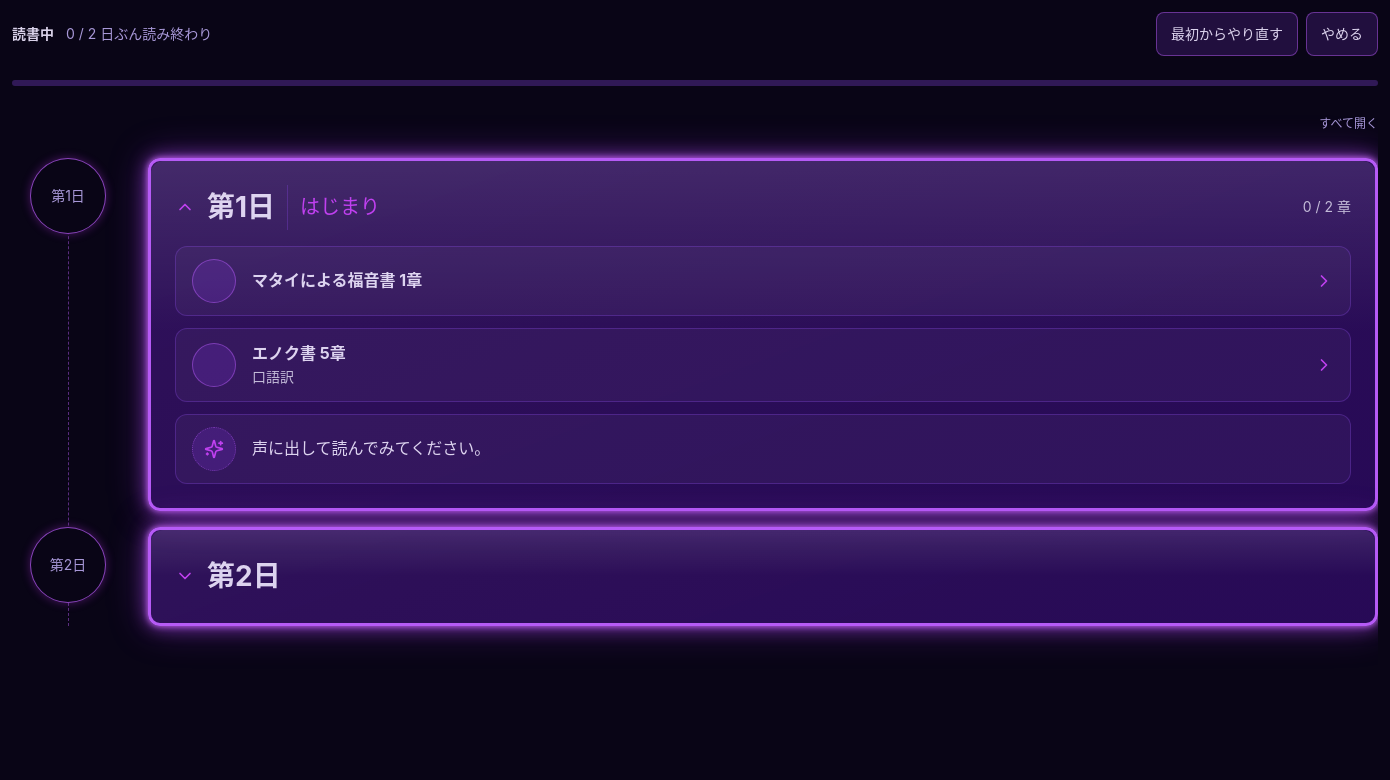
Test: プランを読み進めるところ › 見出しを押すと開け閉めできる
Click the button "第2日".
click(244, 576)  # box [175,554,1351,599]
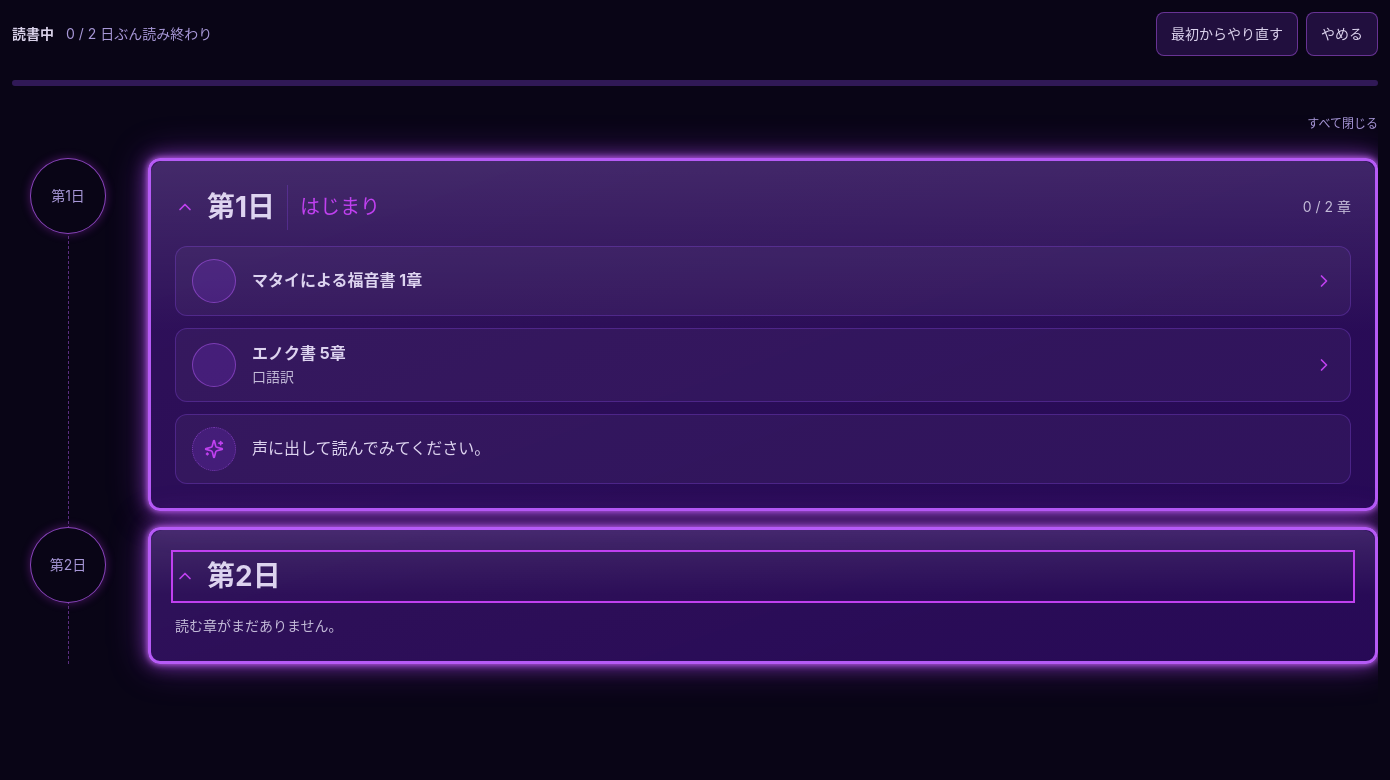
Result: the button "第2日" is expanded
Click the button "第2日".
click(244, 576)  # box [175,554,1351,599]
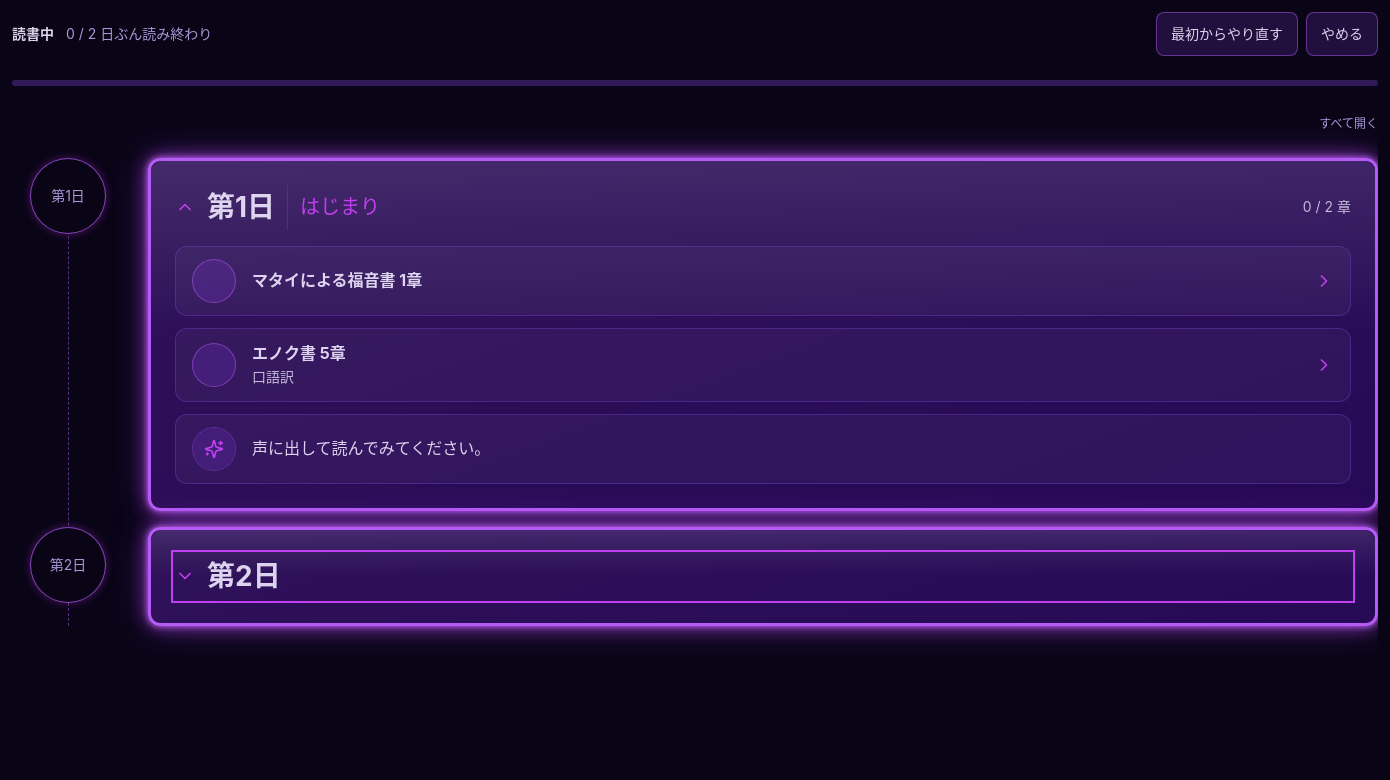
Result: the button "第2日" is collapsed at [175,554,1351,599]
